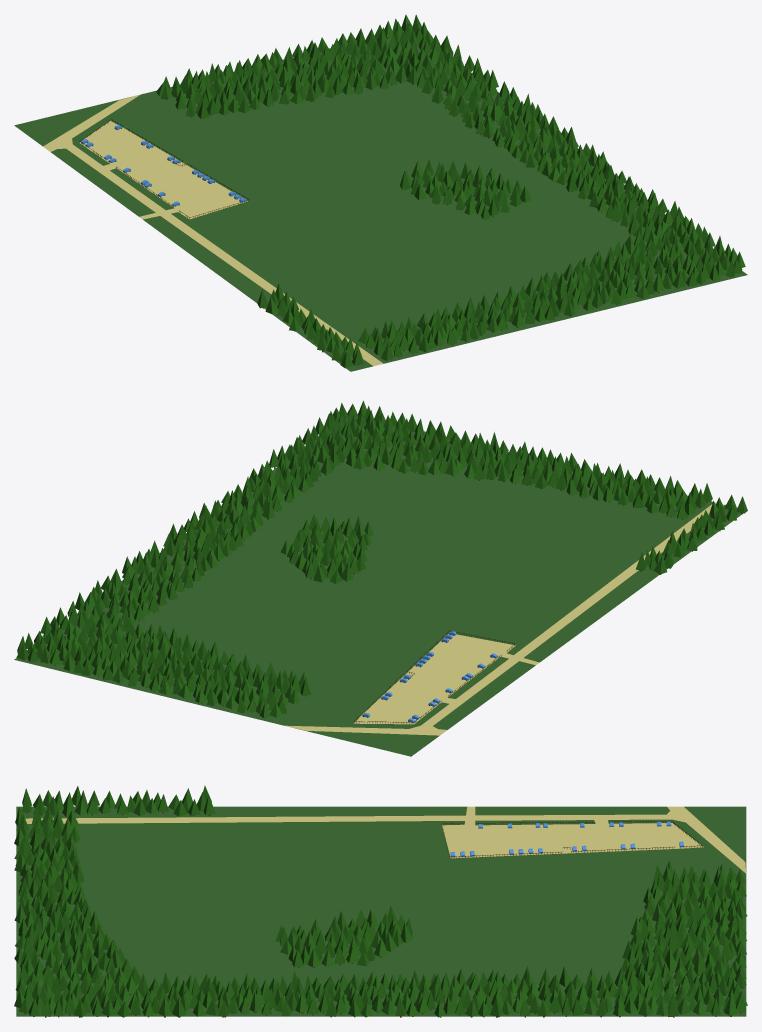
The model's file is LowPolyEnv.glb.
3 renders of one model, top to bottom at view 1: azimuth 30°, elevation 25°; view 2: azimuth 150°, elevation 25°; view 3: azimuth 270°, elevation 25°, orthographic. The views are drawn at different scales.
Parts seen in each view (by area): view 1: Ground.001, Trees.001, Cars; view 2: Ground.001, Trees.001, Cars; view 3: Ground.001, Trees.001, Fence.002, Cars.
Boxes of the visible parts, bbox=[...] form: Ground.001: bbox=[14, 31, 747, 371]; Trees.001: bbox=[156, 14, 745, 368]; Cars: bbox=[81, 125, 246, 206]; Ground.001: bbox=[14, 416, 743, 756]; Trees.001: bbox=[16, 400, 747, 718]; Cars: bbox=[362, 631, 497, 723]; Ground.001: bbox=[16, 806, 746, 1016]; Trees.001: bbox=[14, 785, 747, 1017]; Fence.002: bbox=[442, 821, 702, 858]; Cars: bbox=[450, 821, 684, 857].
Bounding box in the file's own units: 255 × 12.27 × 365.
